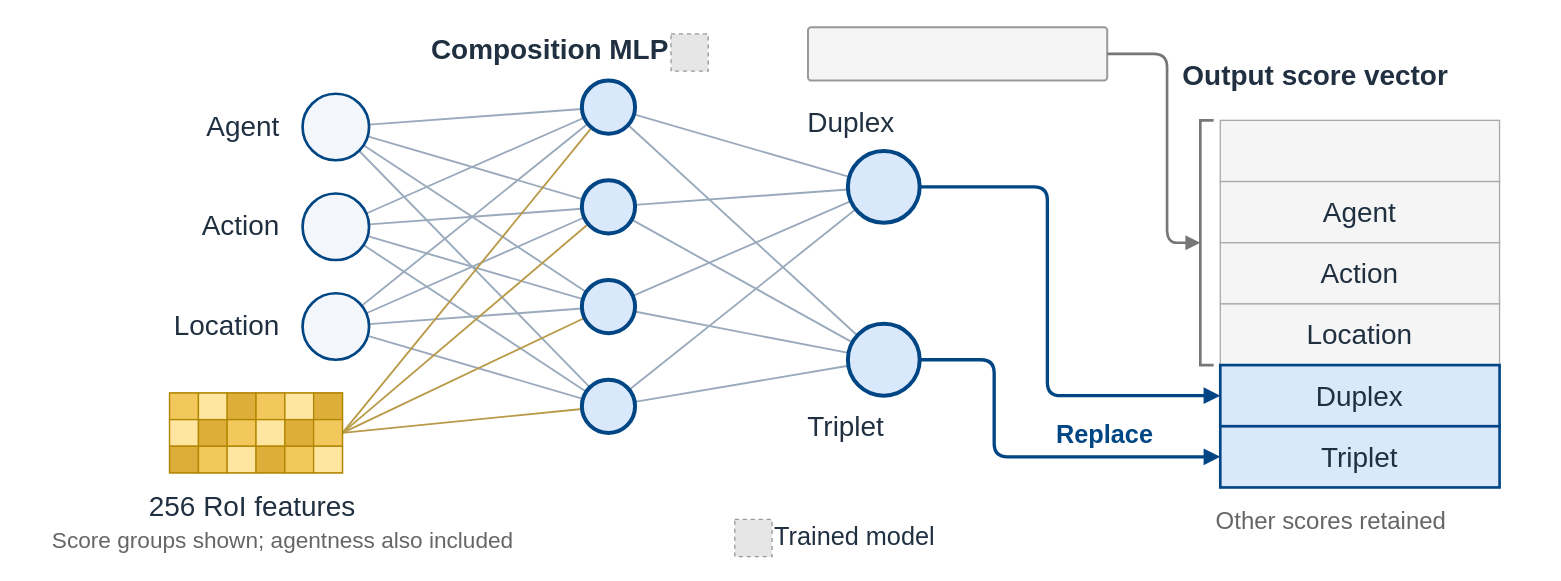
Some shapes in this 1561 by 581 pixel diagram are drawn without their labels. Grey dashed boxes stand in for pictures. The shapes that lost their labels are listed below. From the top down, each one's centre as x and y in pixels, then its label:
pixel 957 53: Primitive outputs
pixel 1359 150: Agentness
